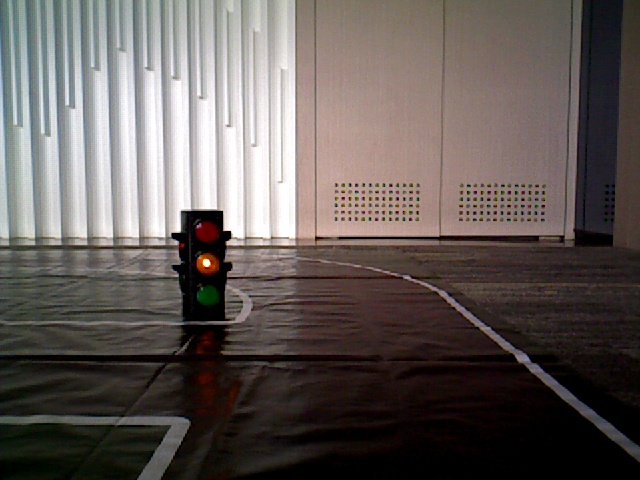yellow: (180, 216, 223, 315)
